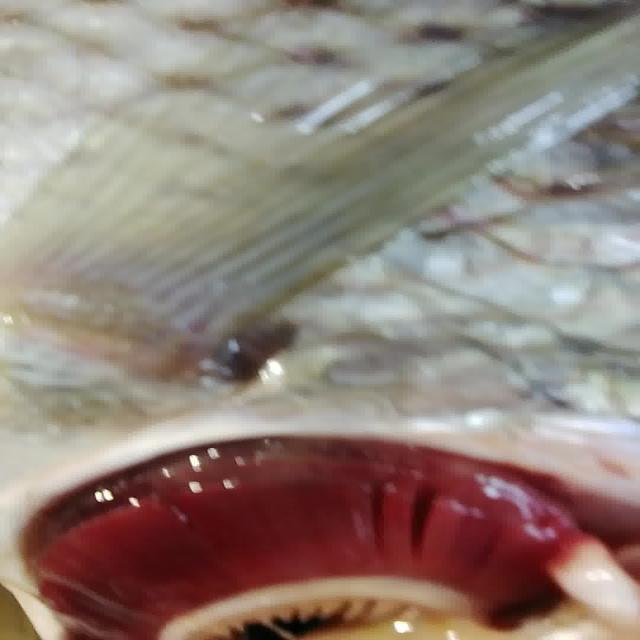Fresh: (9, 426, 617, 616)
